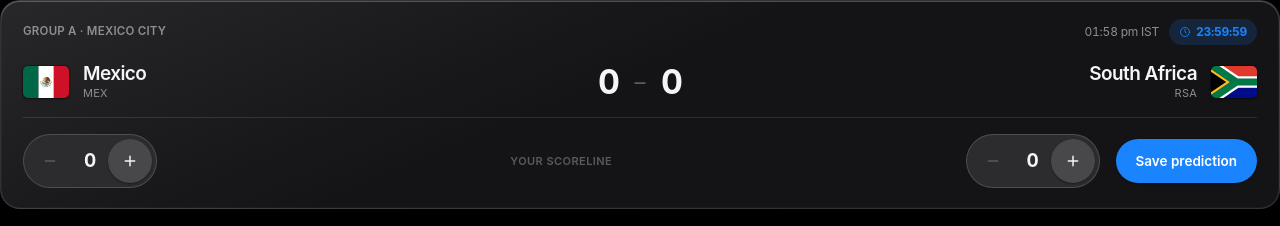
Test: MatchCard › animates a right-team goal from the right controls toward the left flag
Click the button named "increase south africa".
click(1073, 161)  # box [1051,139,1095,183]
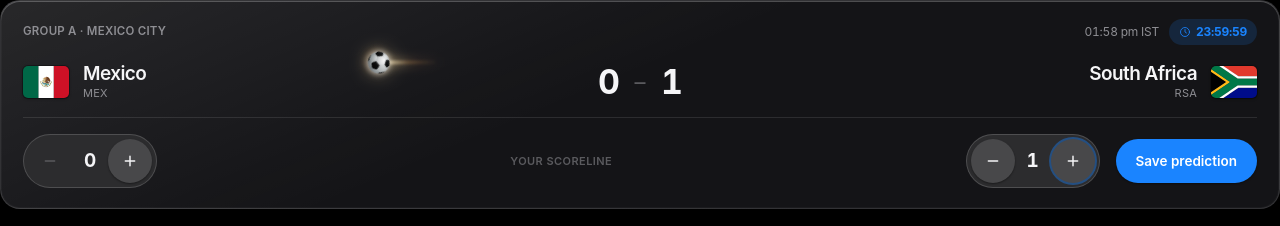
Expected: the text named "South Africa score: 1" is shown, [1027,149,1038,172]
